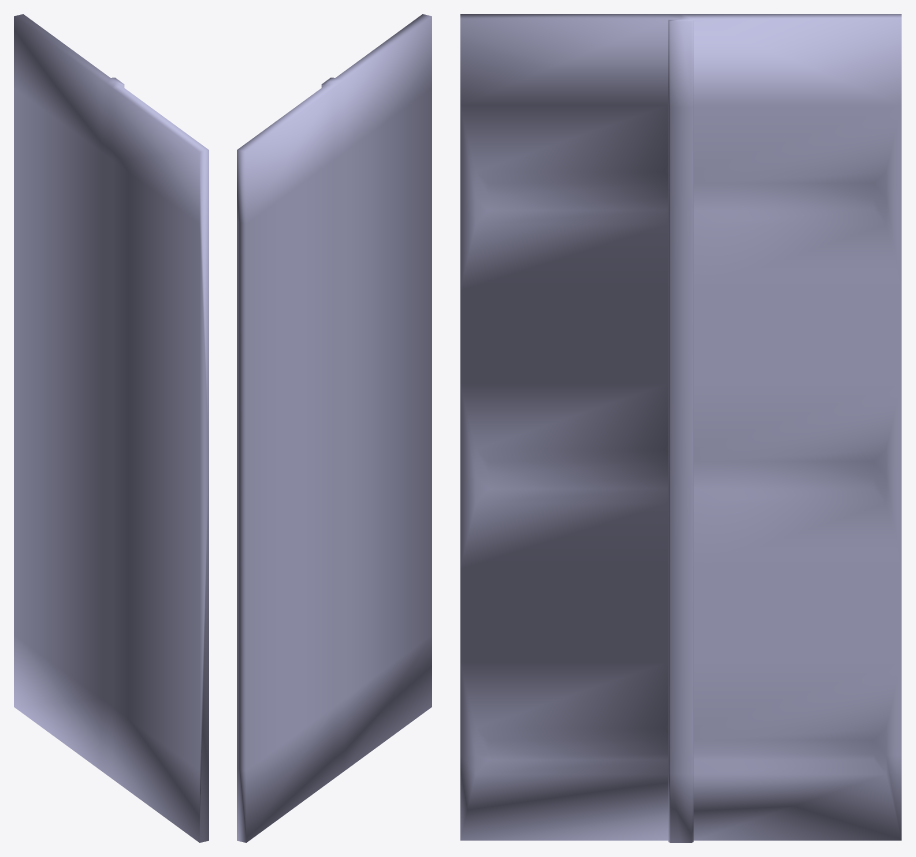
File: StorageContainerDoorRight.fbx
3 renders of one model, left to right at view 1: azimuth 30°, elevation 25°; view 2: azimuth 150°, elevation 25°; view 3: azimuth 270°, elevation 25°, orthographic. The views are drawn at different scales.
Visible parts, largest first — view 1: StorageContainerDoorRight:DoorRight; view 2: StorageContainerDoorRight:DoorRight; view 3: StorageContainerDoorRight:DoorRight.
Part boxes in pixels (x1,y1,x2,y2): StorageContainerDoorRight:DoorRight: (14,14,208,842); StorageContainerDoorRight:DoorRight: (237,14,431,842); StorageContainerDoorRight:DoorRight: (460,14,901,842).
Size of the model in its own units: 0.3473 by 17.66 by 8.6.
